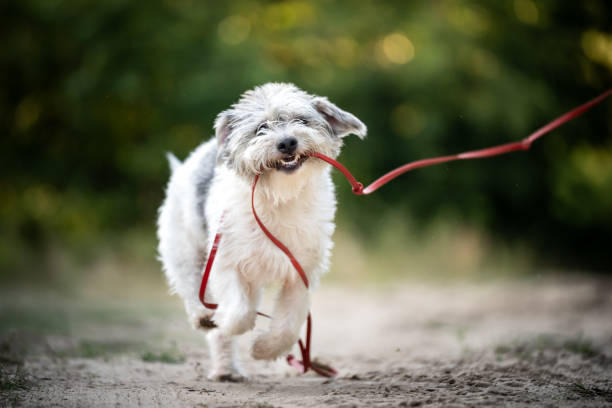dog: (130, 73, 389, 394)
